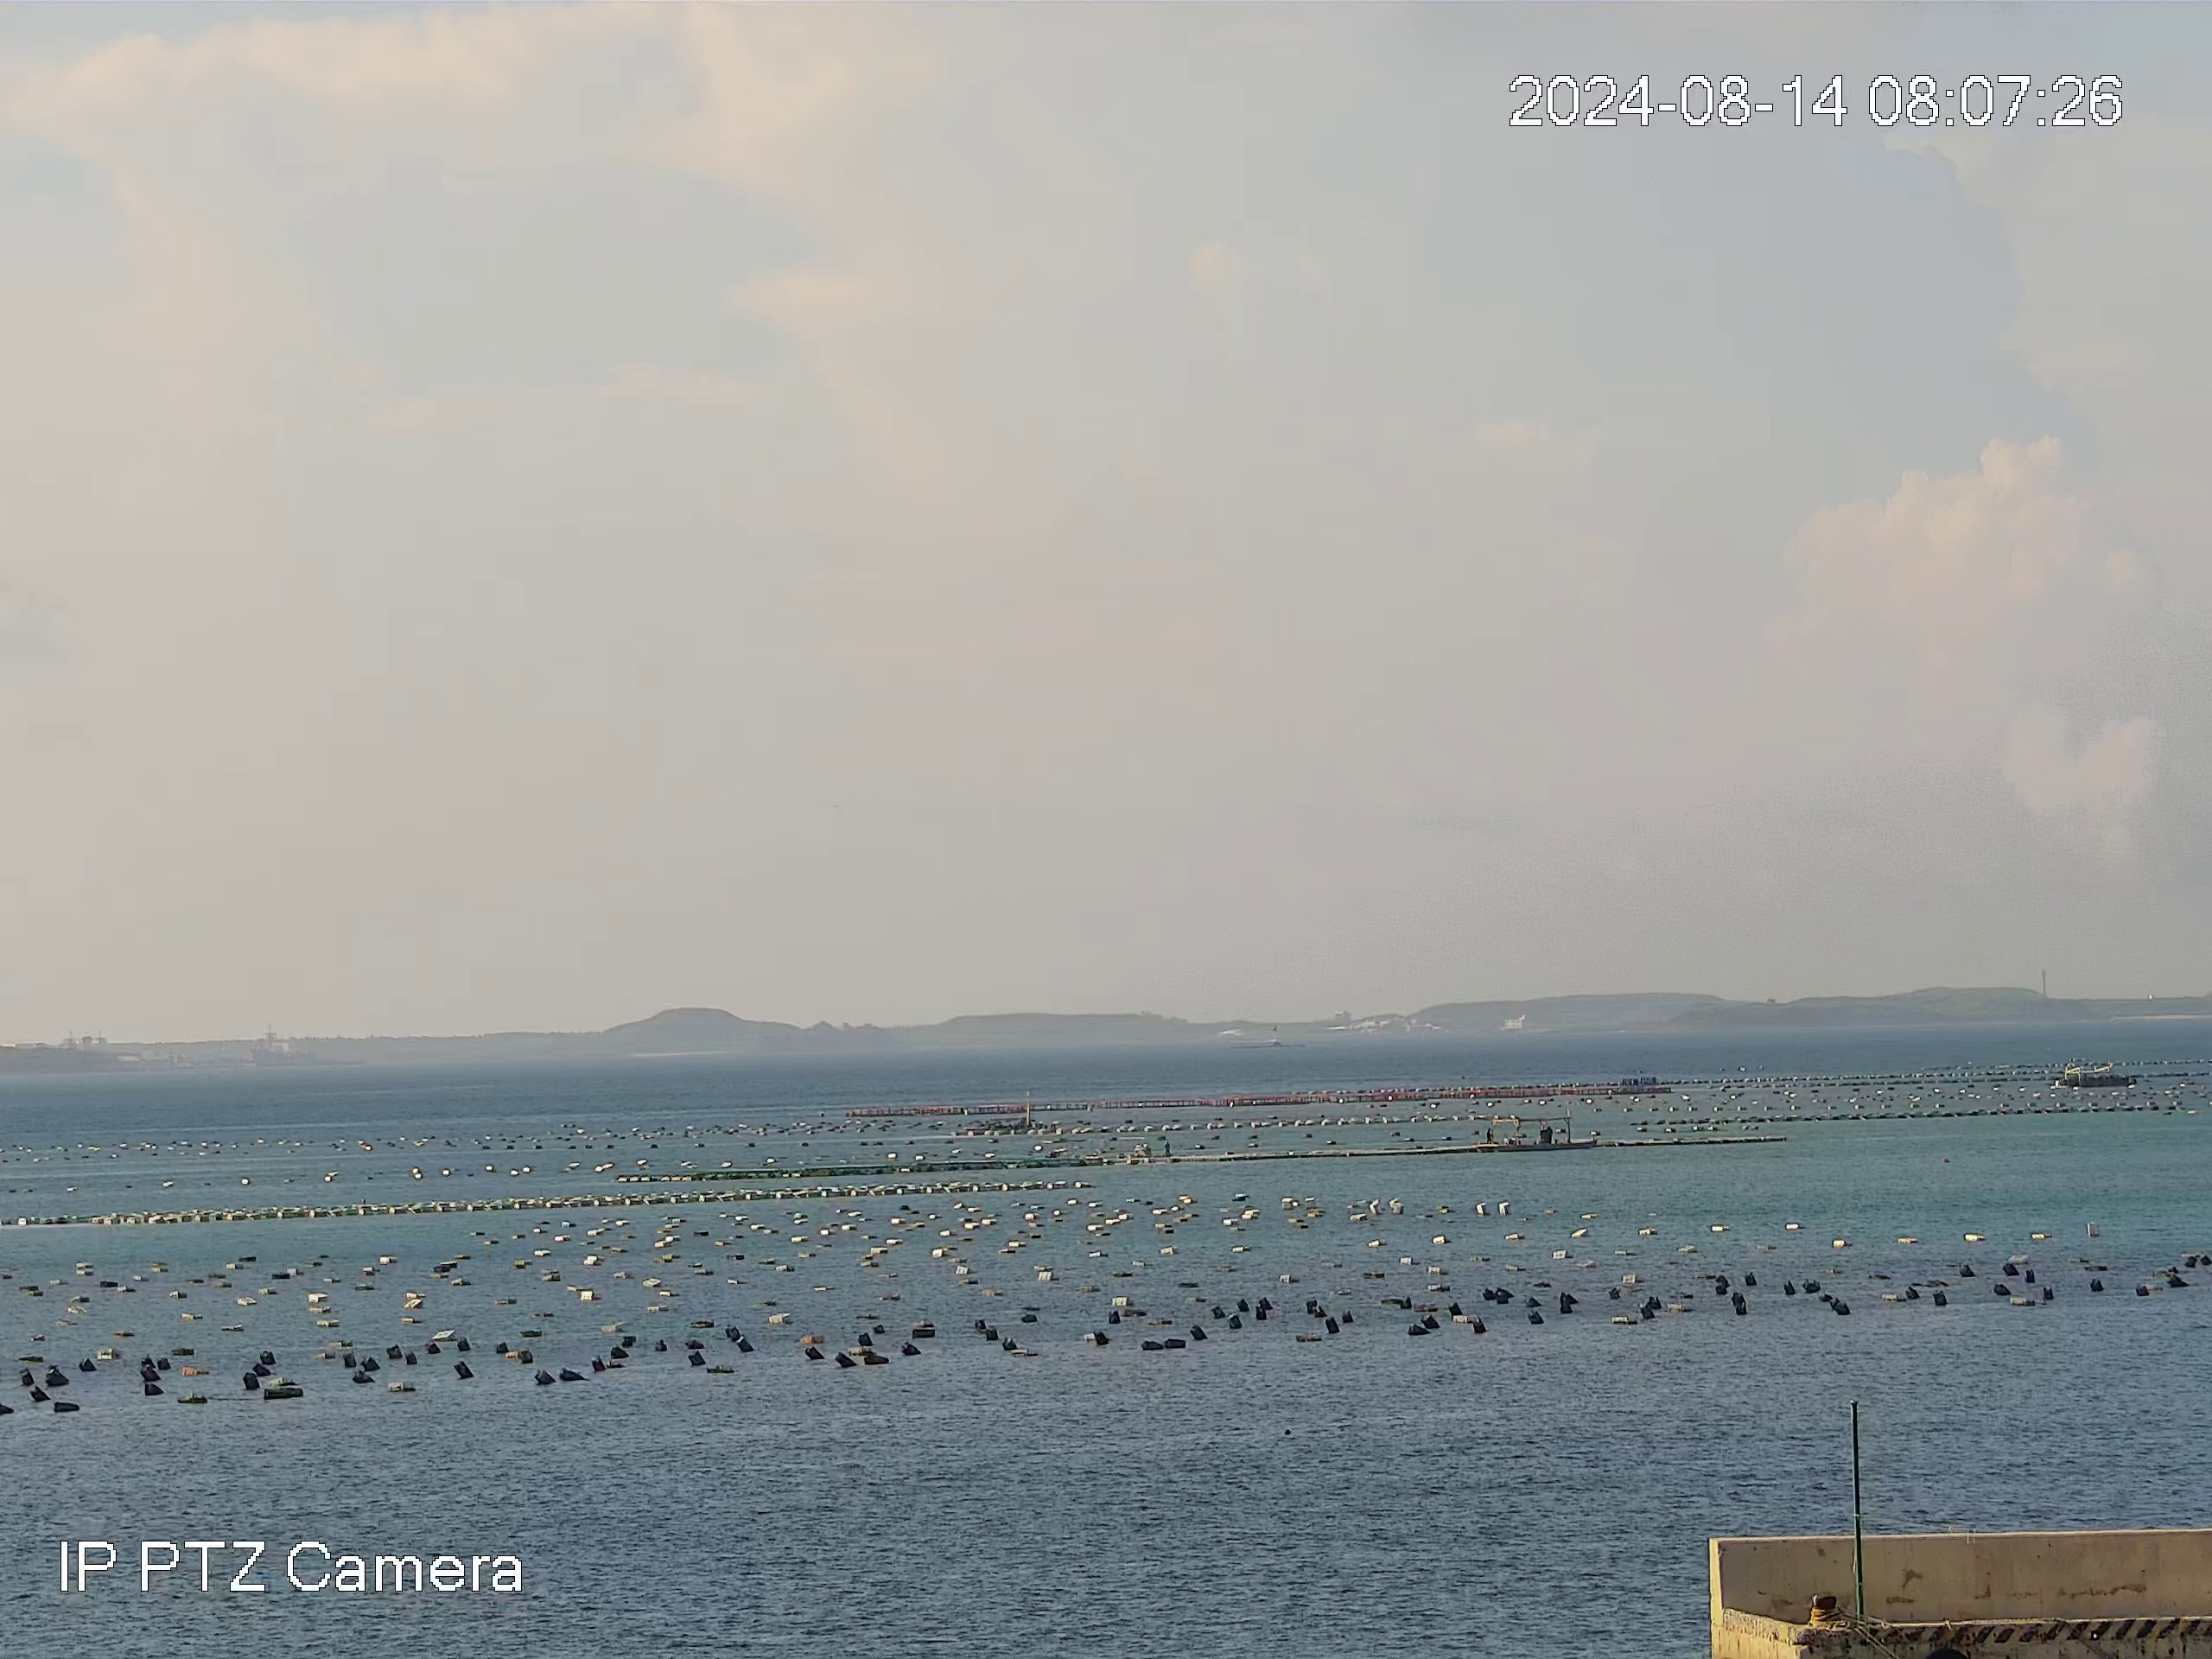boat: (1477, 1109, 1598, 1151), (2052, 1063, 2142, 1090)
